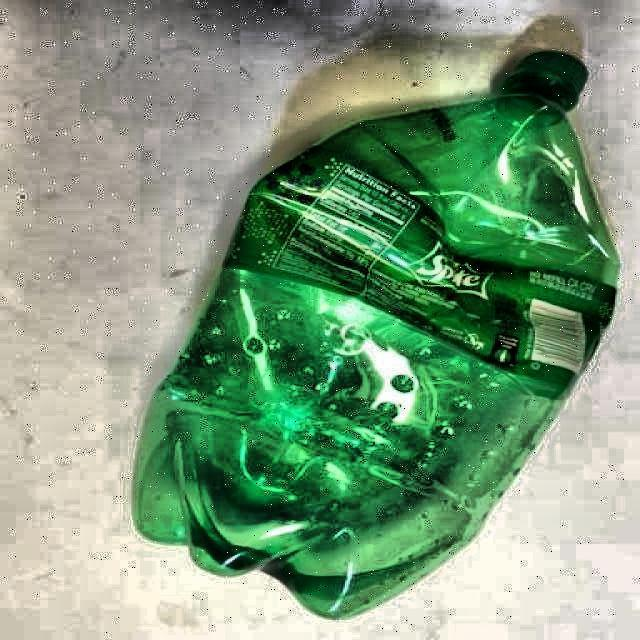plastic: (134, 51, 619, 617)
